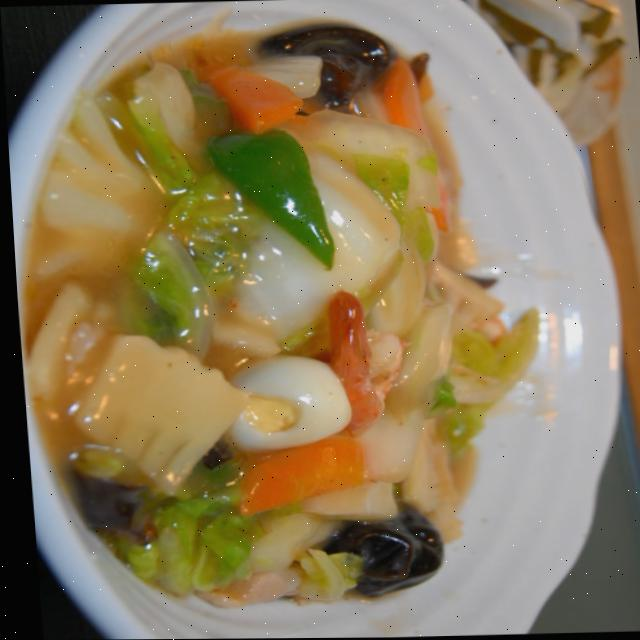猪肉菜式: (9, 17, 556, 613)
